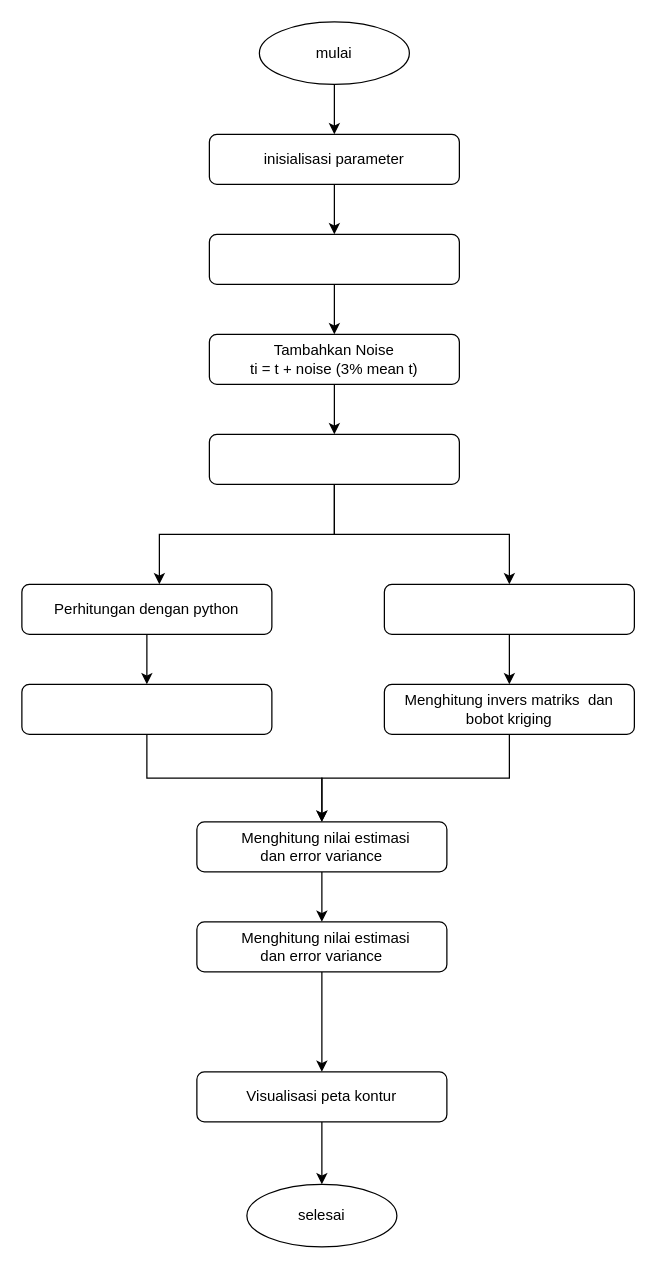
The diagram is 656 pixels wide and 1269 high, and some of its shapes have lost their labels. The centre of each missing label's shape, as x and y in pixels:
Forward Modelling: (x=333, y=258)
Menghitung bobot OK dan UK: (x=146, y=708)
Menyusun matriks kovarians: (x=333, y=458)
Perhitungan dengan excel: (x=508, y=608)
